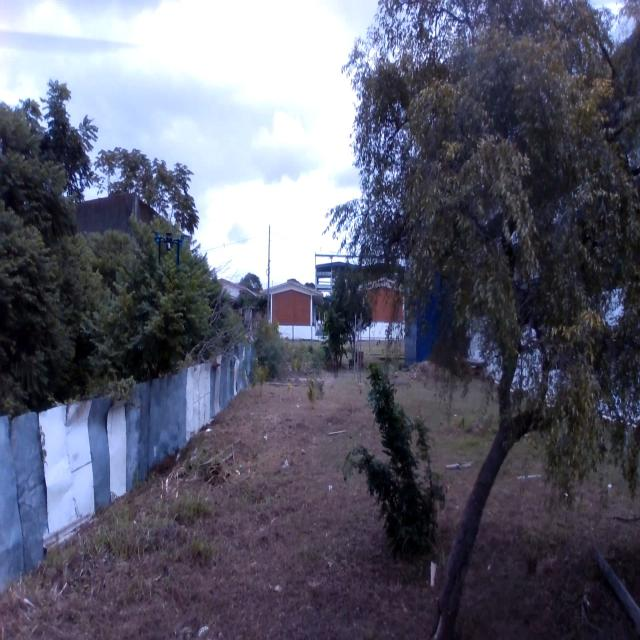-uav-: (142, 224, 196, 271)
